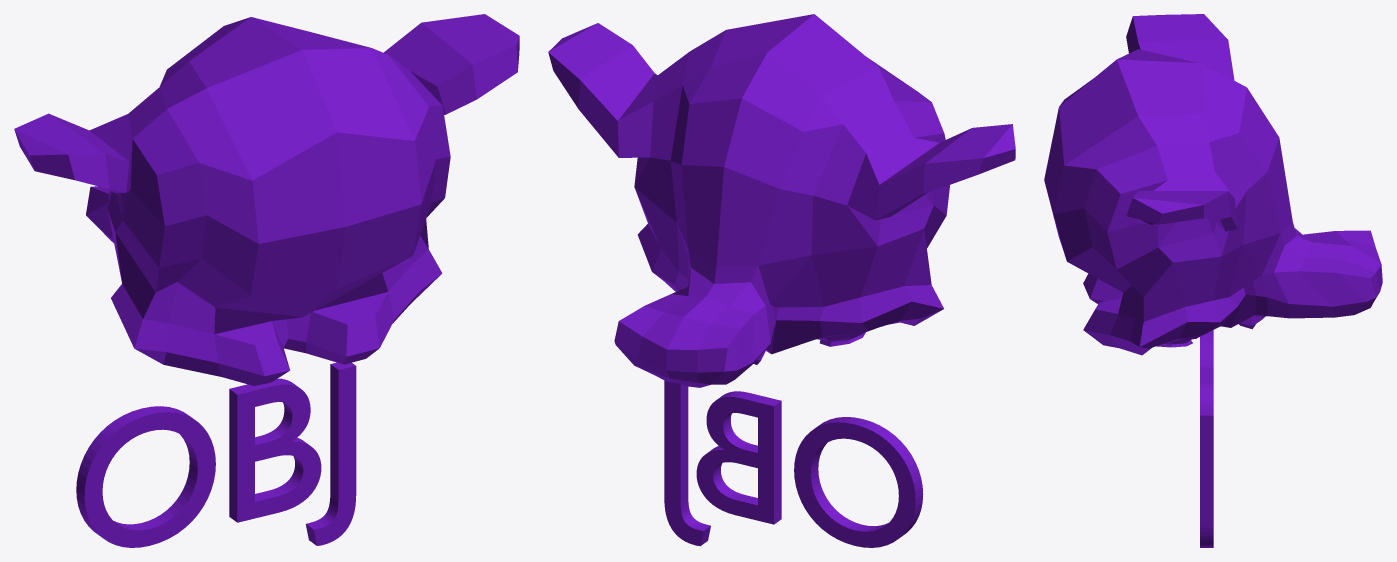
File: suz.obj
3 renders of one model, left to right at view 1: azimuth 30°, elevation 25°; view 2: azimuth 150°, elevation 25°; view 3: azimuth 270°, elevation 25°, orthographic. The views are drawn at different scales.
Visible parts, largest first — view 1: Suzanne, Text; view 2: Suzanne, Text; view 3: Suzanne, Text.
Boxes of the visible parts, box(x1,y1,x2,y2) form: Suzanne: box(14, 14, 519, 385); Text: box(76, 362, 356, 547); Suzanne: box(548, 14, 1015, 387); Text: box(664, 380, 923, 547); Suzanne: box(1044, 14, 1382, 355); Text: box(1200, 330, 1213, 547).
Bounding box in the file's own units: 2.73 × 2.93 × 1.97.
